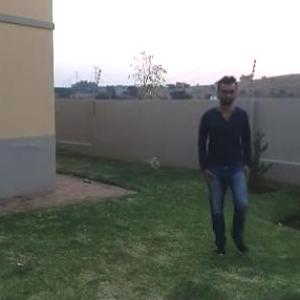follow: (192, 72, 239, 241)
